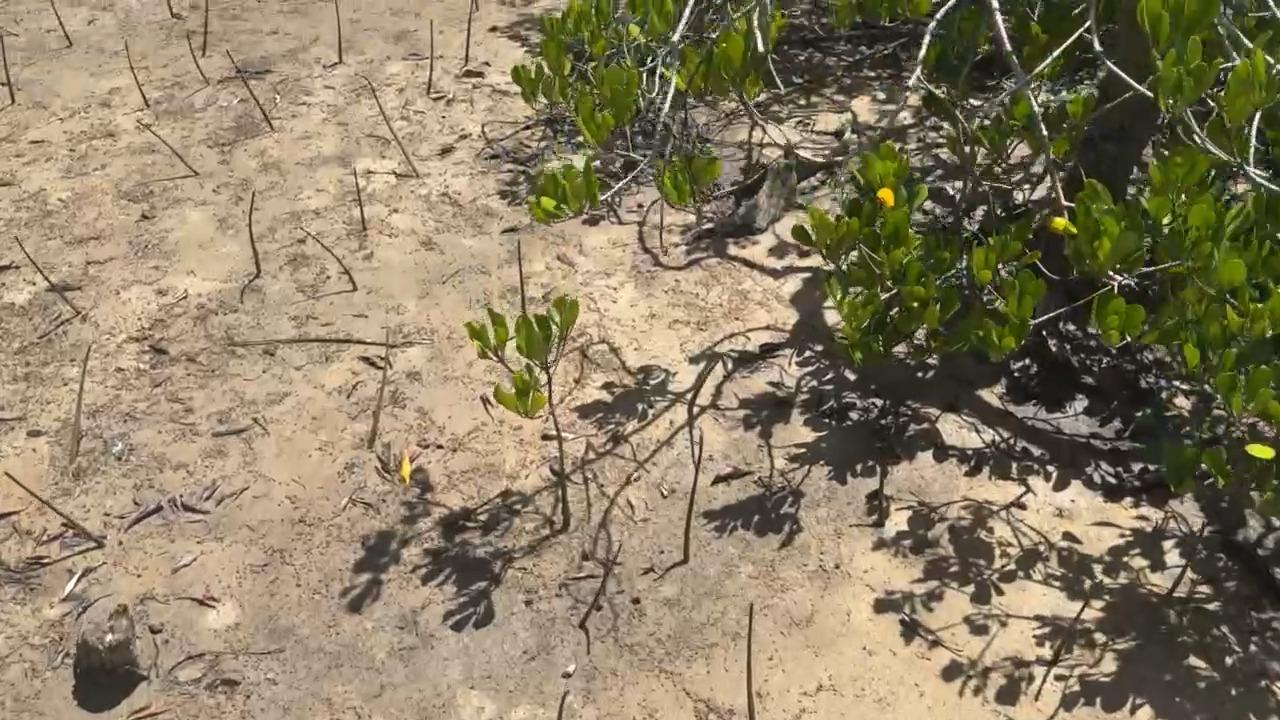Tree: (464, 293, 582, 534), (3, 469, 108, 550), (354, 73, 420, 177), (11, 235, 80, 314), (225, 48, 274, 131), (577, 542, 623, 627), (299, 226, 359, 291), (135, 119, 198, 176), (1162, 519, 1208, 597), (680, 433, 706, 563), (1050, 598, 1089, 665), (123, 39, 151, 107), (185, 30, 211, 84), (248, 187, 262, 278), (50, 0, 74, 47), (747, 601, 756, 720), (0, 34, 15, 103), (352, 165, 367, 231), (516, 237, 527, 313), (425, 19, 434, 95), (464, 0, 473, 67), (334, 0, 343, 63), (201, 0, 209, 57), (557, 689, 570, 720), (166, 0, 174, 19)
